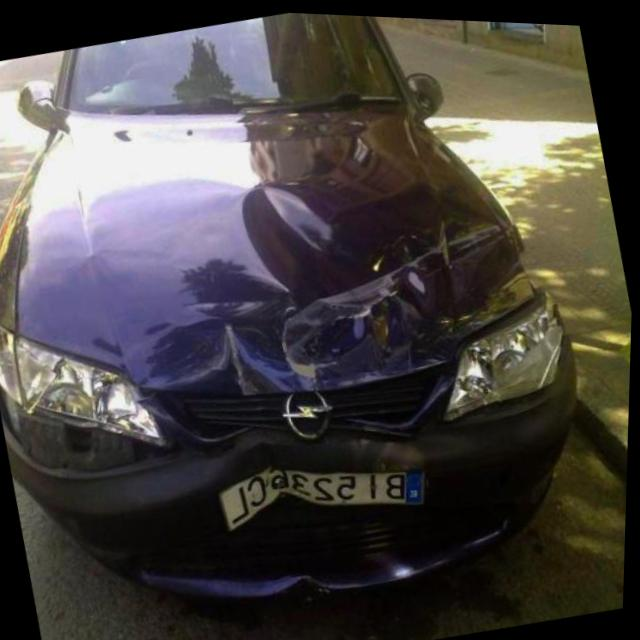Car-Damage: (0, 188, 604, 592), (223, 156, 379, 325), (275, 566, 337, 612)
